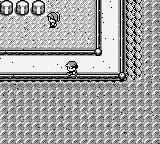main: (65, 62, 78, 75)
no-caminable: (0, 0, 159, 143), (0, 0, 46, 15)
npc: (47, 12, 60, 28)
